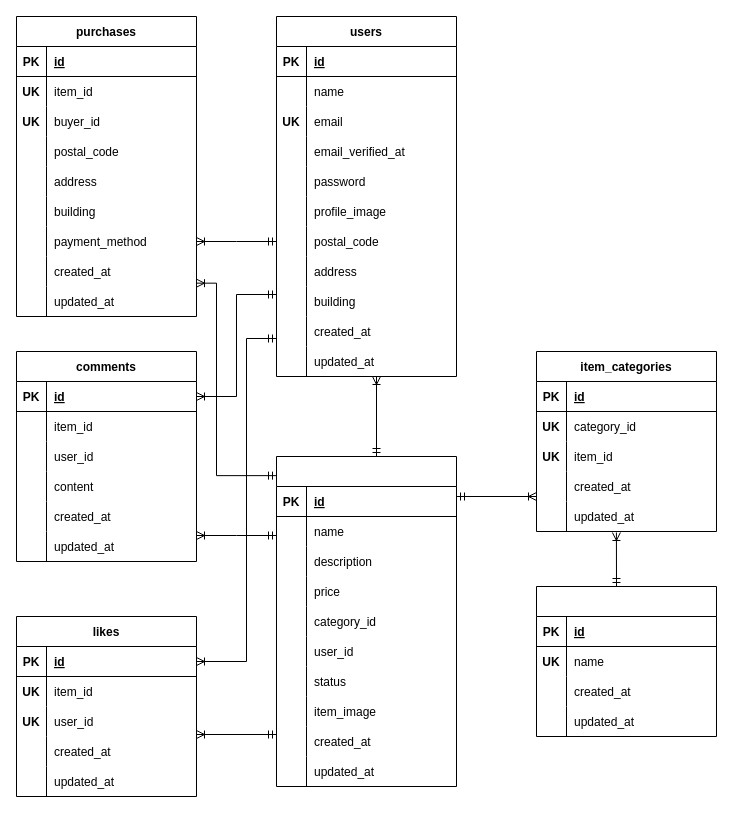
Image size: 733x813. Some labels were removed from this diagram. Here are the shapes that lost their labels. From the top down, the box of each, then its label:
(276, 456, 456, 786): items
(536, 586, 716, 736): categories
